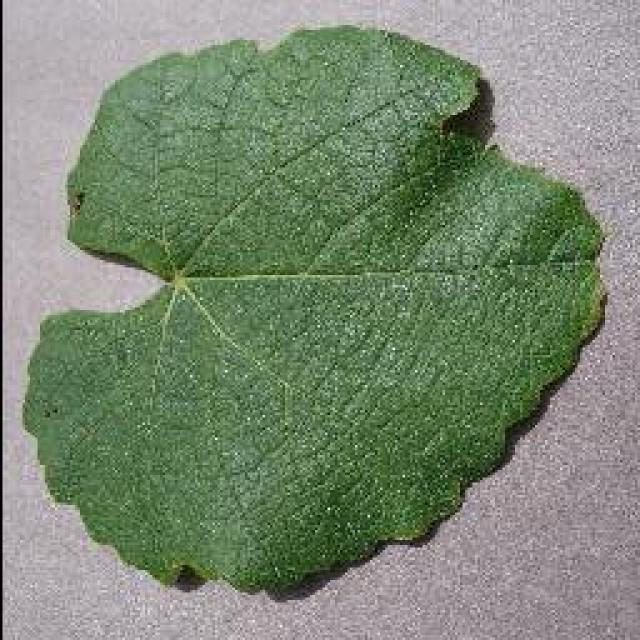Grape___healthy: (15, 17, 618, 614)
